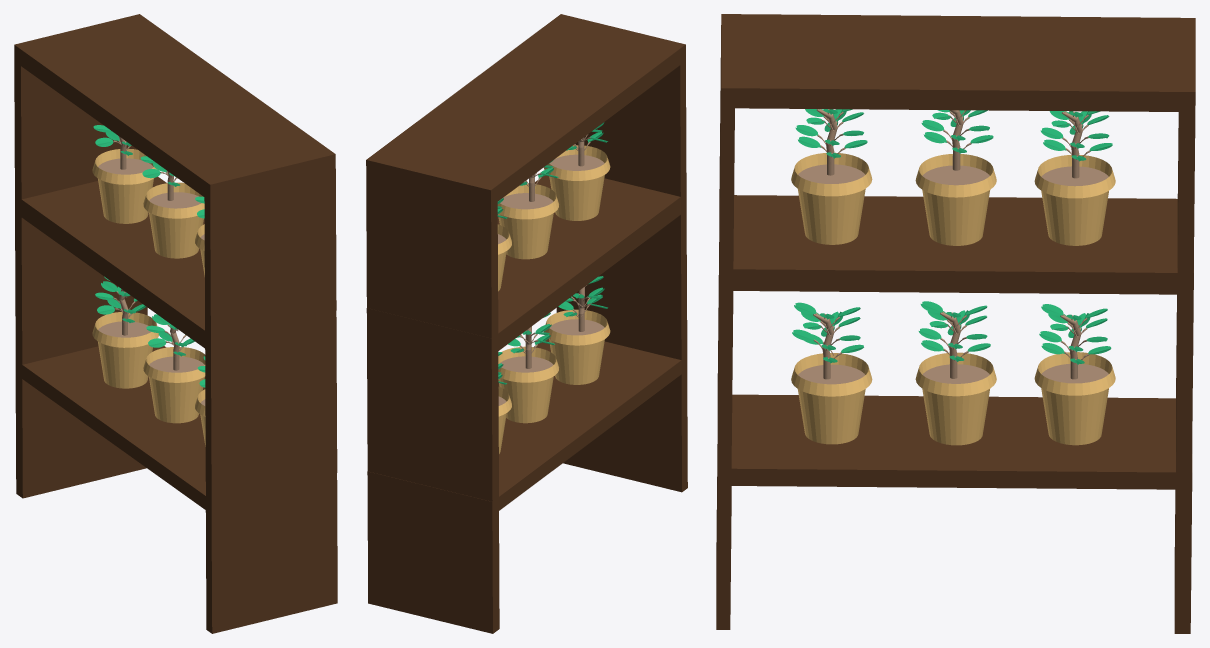
The model's file is plantkast.fbx.
3 views of the same model, side by side, from view 1: azimuth 30°, elevation 25°; view 2: azimuth 150°, elevation 25°; view 3: azimuth 270°, elevation 25° (orthographic). The views are drawn at different scales.
Visible parts, largest first — view 1: Plane, Plane.001, Plane.002, Cylinder, Cylinder.003, Cylinder.004, Cylinder.001, Cylinder.009, Cylinder.006, Cylinder.008; view 2: Plane, Plane.001, Plane.002, Cylinder.005, Cylinder.004, Cylinder.002, Cylinder.001, Cylinder.007, Cylinder.010, Cylinder.006, Cylinder.009, Cylinder (+1 smaller); view 3: Plane, Plane.001, Plane.002, Cylinder, Cylinder.003, Cylinder.004, Cylinder.001, Cylinder.002, Cylinder.005, Cylinder.006, Cylinder.007, Cylinder.010 (+2 smaller).
Boxes of the visible parts, left/top/right/bottom form: Plane: left=14, top=14, right=336, bottom=341; Plane.001: left=15, top=176, right=337, bottom=503; Plane.002: left=15, top=346, right=337, bottom=633; Cylinder: left=92, top=149, right=157, bottom=223; Cylinder.003: left=92, top=312, right=158, bottom=388; Cylinder.004: left=143, top=347, right=205, bottom=423; Cylinder.001: left=143, top=182, right=204, bottom=258; Cylinder.009: left=149, top=356, right=204, bottom=372; Cylinder.006: left=149, top=192, right=201, bottom=208; Cylinder.008: left=98, top=321, right=151, bottom=337; Plane: left=366, top=14, right=686, bottom=344; Plane.001: left=366, top=175, right=687, bottom=504; Plane.002: left=367, top=339, right=687, bottom=633; Cylinder.005: left=544, top=309, right=610, bottom=384; Cylinder.004: left=498, top=346, right=558, bottom=423; Cylinder.002: left=543, top=145, right=610, bottom=220; Cylinder.001: left=497, top=183, right=558, bottom=259; Cylinder.007: left=549, top=154, right=604, bottom=170; Cylinder.010: left=549, top=319, right=604, bottom=335; Cylinder.006: left=500, top=193, right=553, bottom=209; Cylinder.009: left=500, top=356, right=553, bottom=372; Cylinder: left=497, top=224, right=511, bottom=291; Plane: left=719, top=14, right=1195, bottom=280; Plane.001: left=717, top=195, right=1193, bottom=476; Plane.002: left=716, top=394, right=1192, bottom=633; Cylinder: left=1034, top=155, right=1115, bottom=245; Cylinder.003: left=1034, top=352, right=1115, bottom=445; Cylinder.004: left=915, top=352, right=996, bottom=445; Cylinder.001: left=915, top=154, right=996, bottom=245; Cylinder.002: left=791, top=152, right=872, bottom=244; Cylinder.005: left=791, top=353, right=872, bottom=444; Cylinder.006: left=922, top=165, right=989, bottom=185; Cylinder.007: left=798, top=164, right=865, bottom=183; Cylinder.010: left=798, top=364, right=865, bottom=384.
Bounding box in the file's own units: 74 × 254 × 202.
